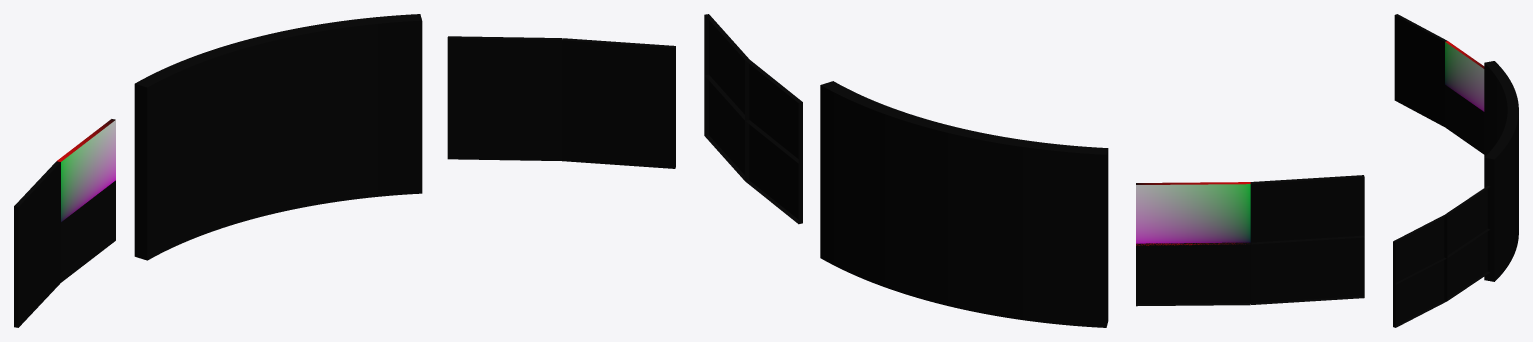
The model's file is New Final SCreen.fbx.
The picture shows the model from 3 angles, left to right: view 1: azimuth 30°, elevation 25°; view 2: azimuth 150°, elevation 25°; view 3: azimuth 270°, elevation 25°; orthographic projection. The views are drawn at different scales.
Parts seen in each view (by area): view 1: screens1, frame; view 2: frame, screens1; view 3: screens1, frame.
Boxes of the visible parts, x1,y1,x2,y2 form: screens1: (18, 20, 675, 327); frame: (14, 14, 675, 327); frame: (704, 14, 1364, 327); screens1: (709, 20, 1363, 303); screens1: (1394, 15, 1507, 325); frame: (1393, 14, 1518, 327).
Bounding box in the file's own units: 879 × 220 × 205.
